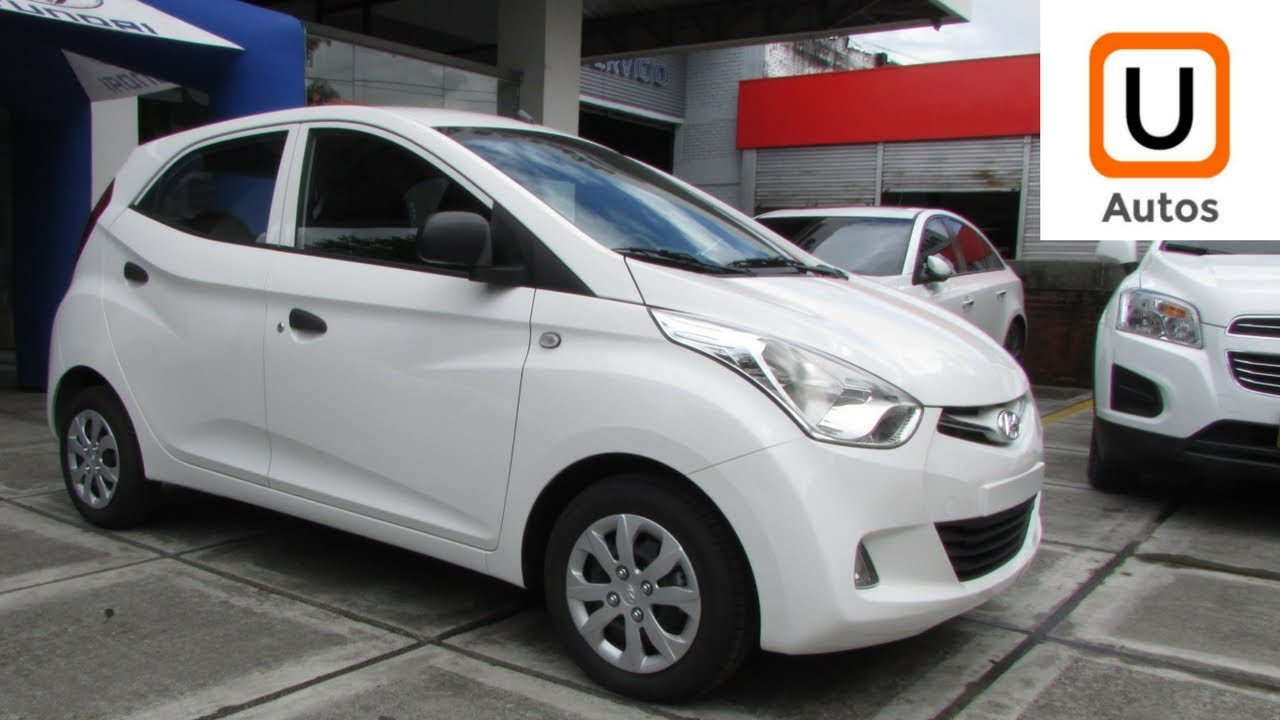eon: (37, 93, 1078, 711)
